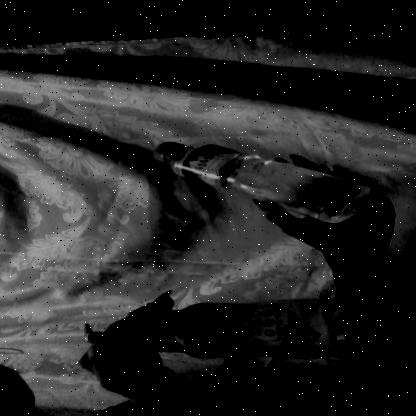Plastic Bottle: (98, 106, 403, 240)
